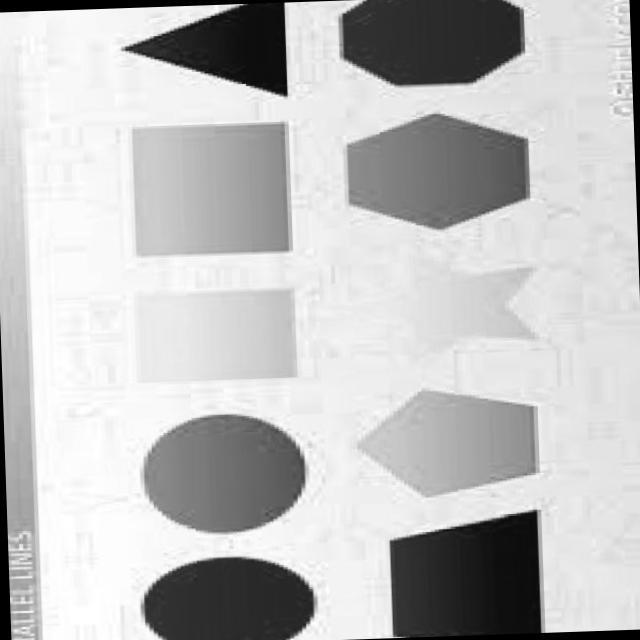circle: (118, 405, 334, 540), (128, 551, 337, 640)
square: (109, 110, 316, 273), (106, 278, 329, 400)
triangle: (118, 0, 308, 107)
